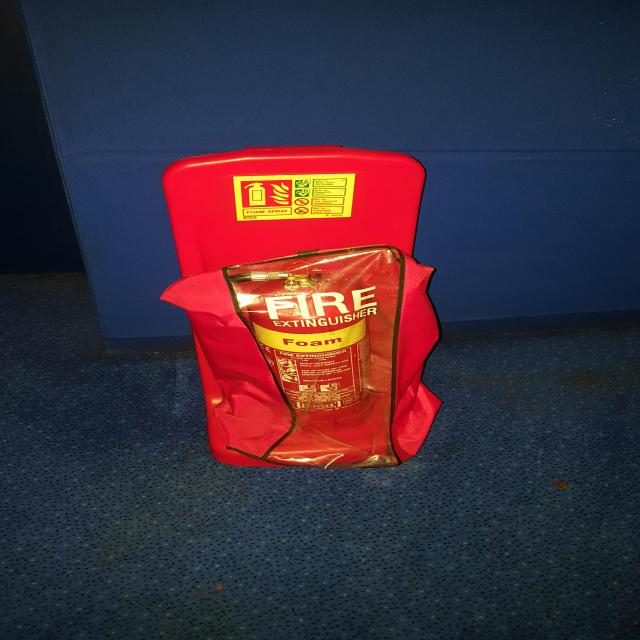fire_extinguisher: (192, 256, 402, 446)
